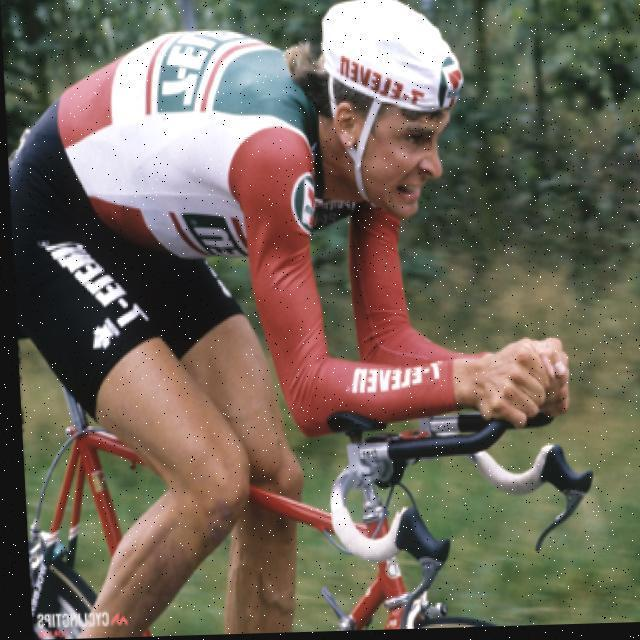Helmet: (317, 0, 480, 242)
